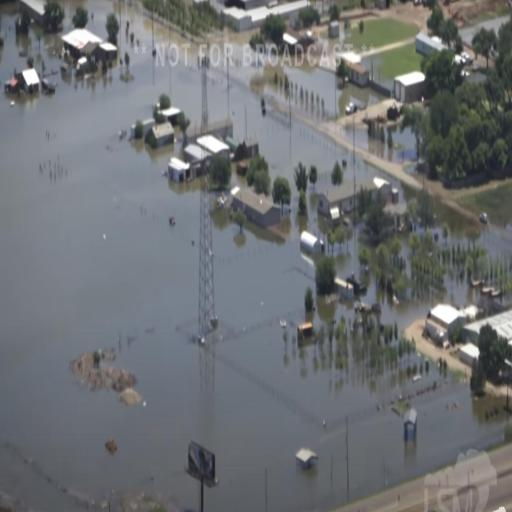flood: (0, 13, 512, 510), (335, 178, 512, 347), (220, 80, 354, 251), (356, 144, 419, 227), (289, 63, 335, 117), (337, 81, 379, 115), (208, 64, 227, 119)
house: (168, 132, 230, 192), (318, 178, 399, 222), (61, 29, 119, 86), (425, 298, 470, 353), (234, 186, 281, 230), (392, 68, 428, 112), (340, 51, 371, 90), (293, 442, 321, 476)
